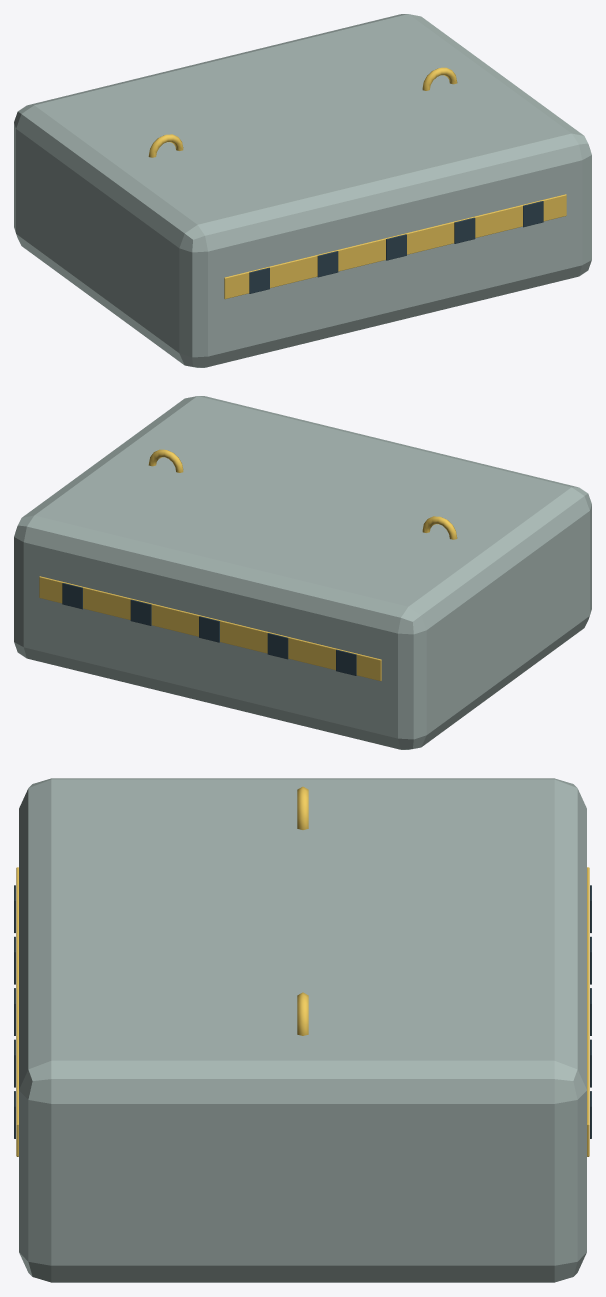
File: block.glb
3 renders of one model, top to bottom at view 1: azimuth 30°, elevation 25°; view 2: azimuth 150°, elevation 25°; view 3: azimuth 270°, elevation 25°, orthographic. The views are drawn at different scales.
Visible parts, largest first — view 1: tyaga-concrete-block-surface; view 2: tyaga-concrete-block-surface; view 3: tyaga-concrete-block-surface.
Boxes of the visible parts, <box> form: tyaga-concrete-block-surface: <box>14,14,591,367</box>; tyaga-concrete-block-surface: <box>14,396,591,749</box>; tyaga-concrete-block-surface: <box>14,778,591,1282</box>.
Bounding box in the file's own units: 3.6 × 1.35 × 2.85.
